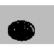no answer: (4, 14, 39, 43)
